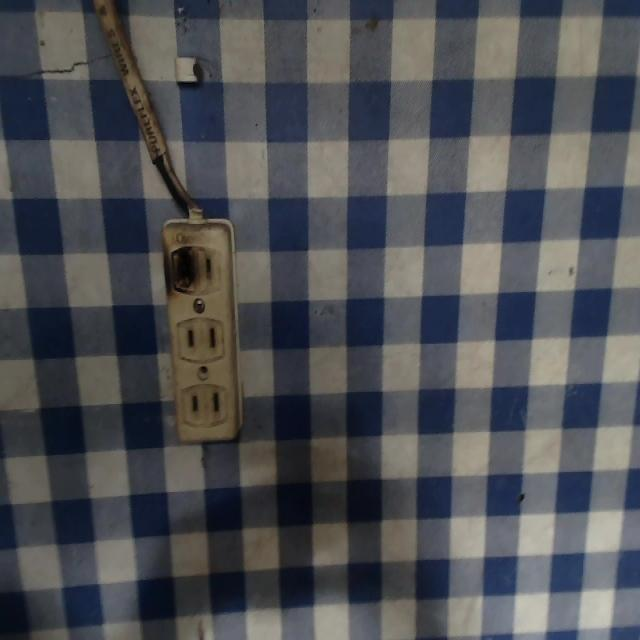-: (157, 232, 202, 304)
